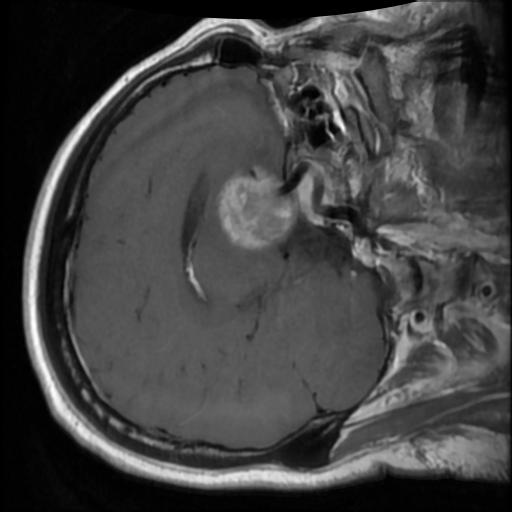pituitary tumour: (219, 166, 294, 248)
